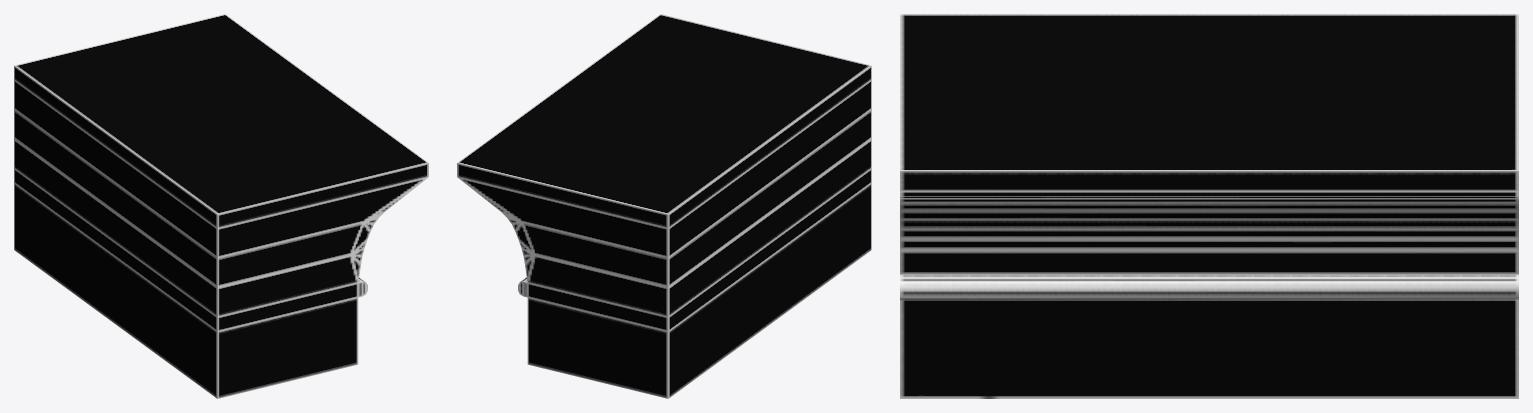
The model's file is Roof01.fbx.
The picture shows the model from 3 angles, left to right: view 1: azimuth 30°, elevation 25°; view 2: azimuth 150°, elevation 25°; view 3: azimuth 270°, elevation 25°; orthographic projection. The views are drawn at different scales.
Parts seen in each view (by area): view 1: Roof01; view 2: Roof01; view 3: Roof01.
Part boxes in pixels (bbox=[...]): Roof01: bbox=[14, 14, 428, 398]; Roof01: bbox=[457, 14, 871, 398]; Roof01: bbox=[900, 14, 1518, 398].
Bounding box in the file's own units: 300 × 250 × 500.
1 material, 1 textured.
